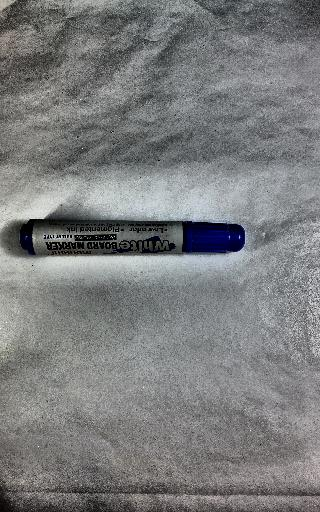marcador azul: (20, 219, 245, 255)
